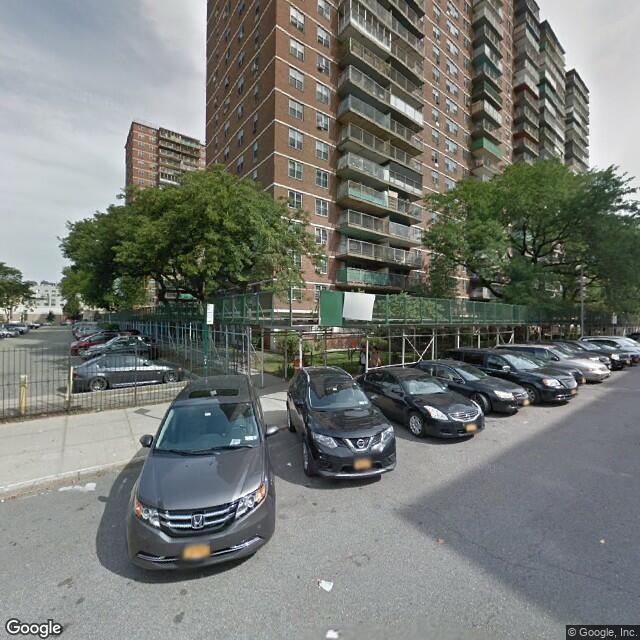litter: (311, 574, 337, 596), (283, 455, 291, 469)
